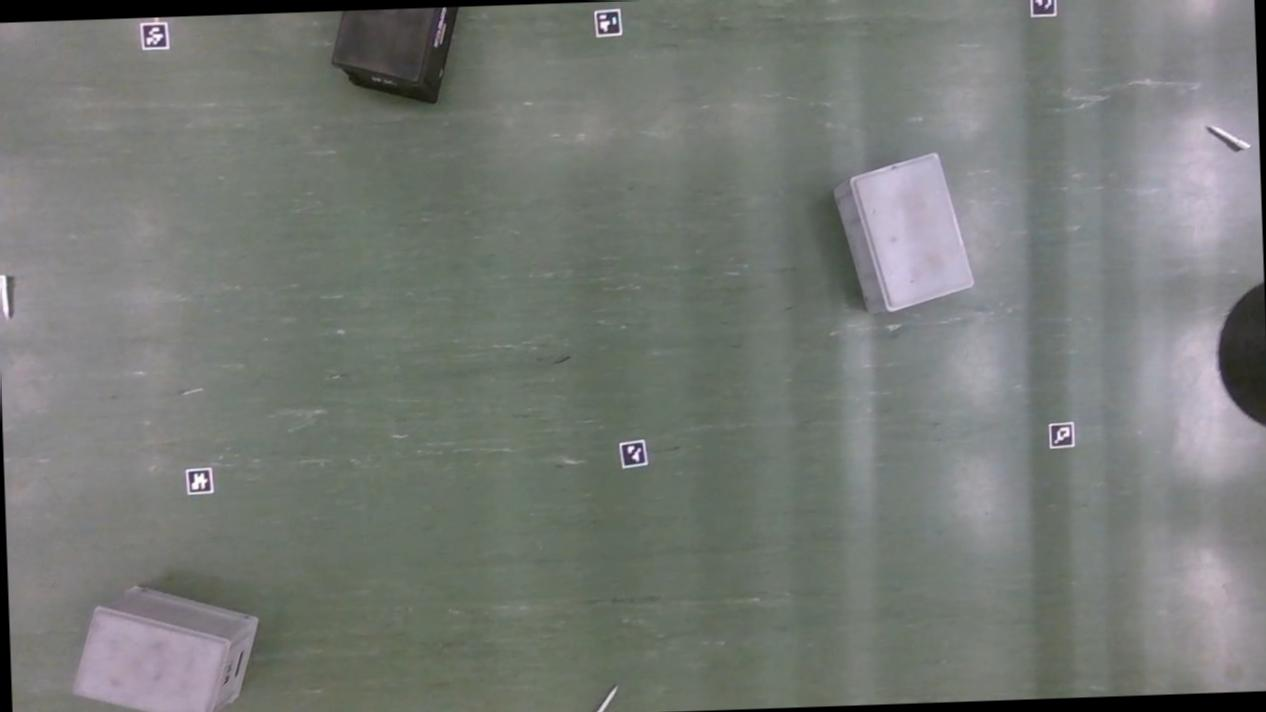probes: (1204, 122, 1251, 153), (586, 684, 619, 712), (0, 274, 13, 320)
rako: (327, 5, 469, 106)
